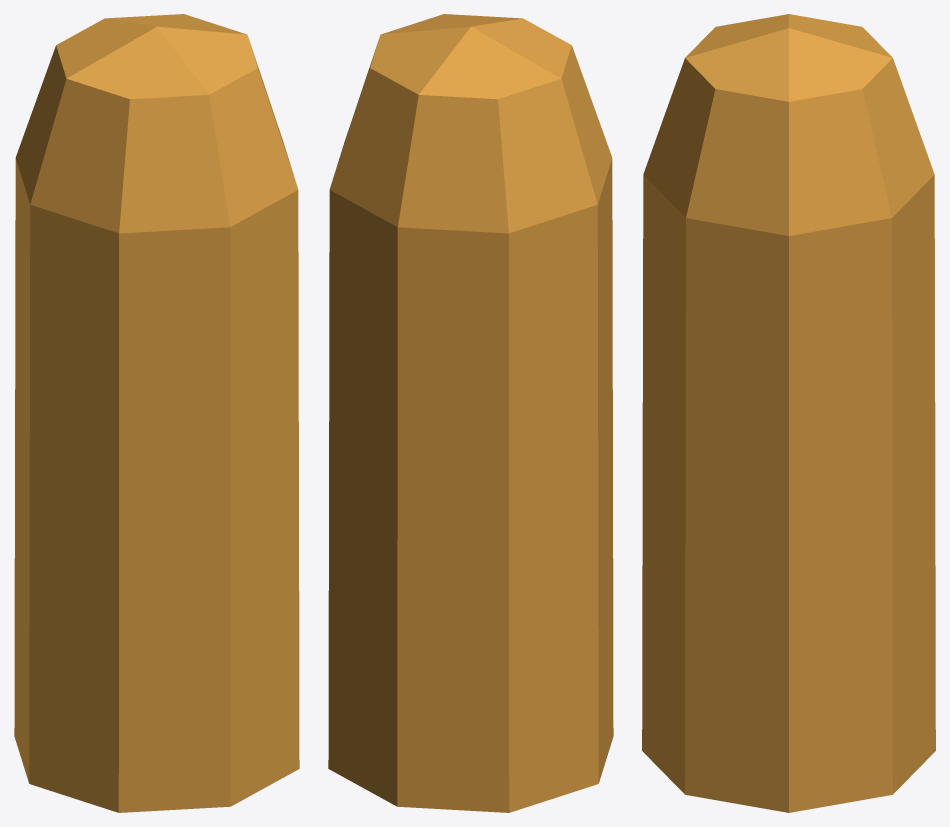
Rendered from weapons-pistol-bullet.glb.
3 views of the same model, side by side, from view 1: azimuth 30°, elevation 25°; view 2: azimuth 150°, elevation 25°; view 3: azimuth 270°, elevation 25° (orthographic).
Visible parts, largest first — view 1: pistol-bullet; view 2: pistol-bullet; view 3: pistol-bullet.
Part boxes in pixels (left/top/right/bottom): pistol-bullet: left=14, top=14, right=299, bottom=812; pistol-bullet: left=328, top=14, right=613, bottom=812; pistol-bullet: left=642, top=14, right=935, bottom=812.
Size of the model in its own units: 0.0184 by 0.05 by 0.0184.
